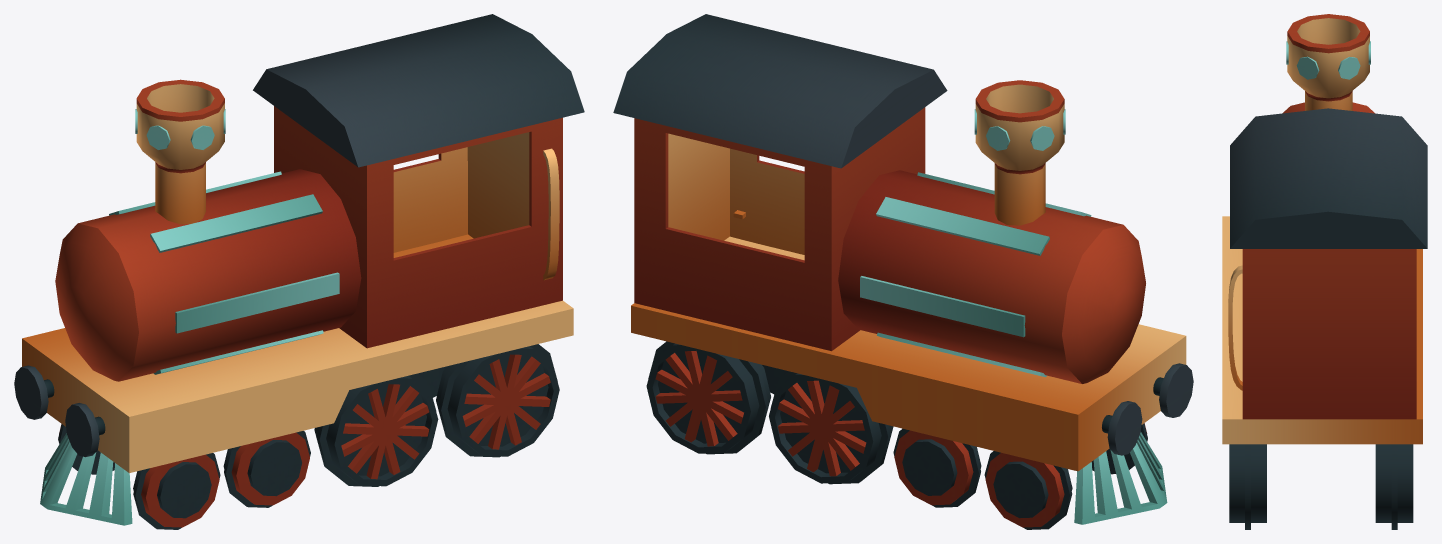
Rendered from Loco_head.fbx.
3 renders of one model, left to right at view 1: azimuth 30°, elevation 25°; view 2: azimuth 150°, elevation 25°; view 3: azimuth 270°, elevation 25°, orthographic. The views are drawn at different scales.
Parts seen in each view (by area): view 1: Loco_head; view 2: Loco_head; view 3: Loco_head.
Boxes of the visible parts, x1=… form: Loco_head: x1=14, y1=14, x2=584, y2=529; Loco_head: x1=613, y1=14, x2=1193, y2=529; Loco_head: x1=1222, y1=14, x2=1427, y2=529.
Bounding box in the file's own units: 79.21 × 60.59 × 30.64.
